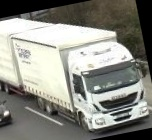truck: (0, 0, 150, 140)
